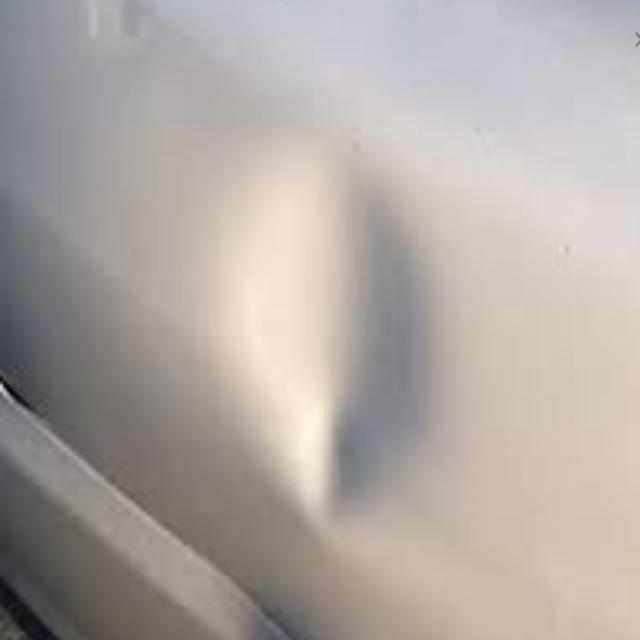dents: (217, 150, 476, 541)
